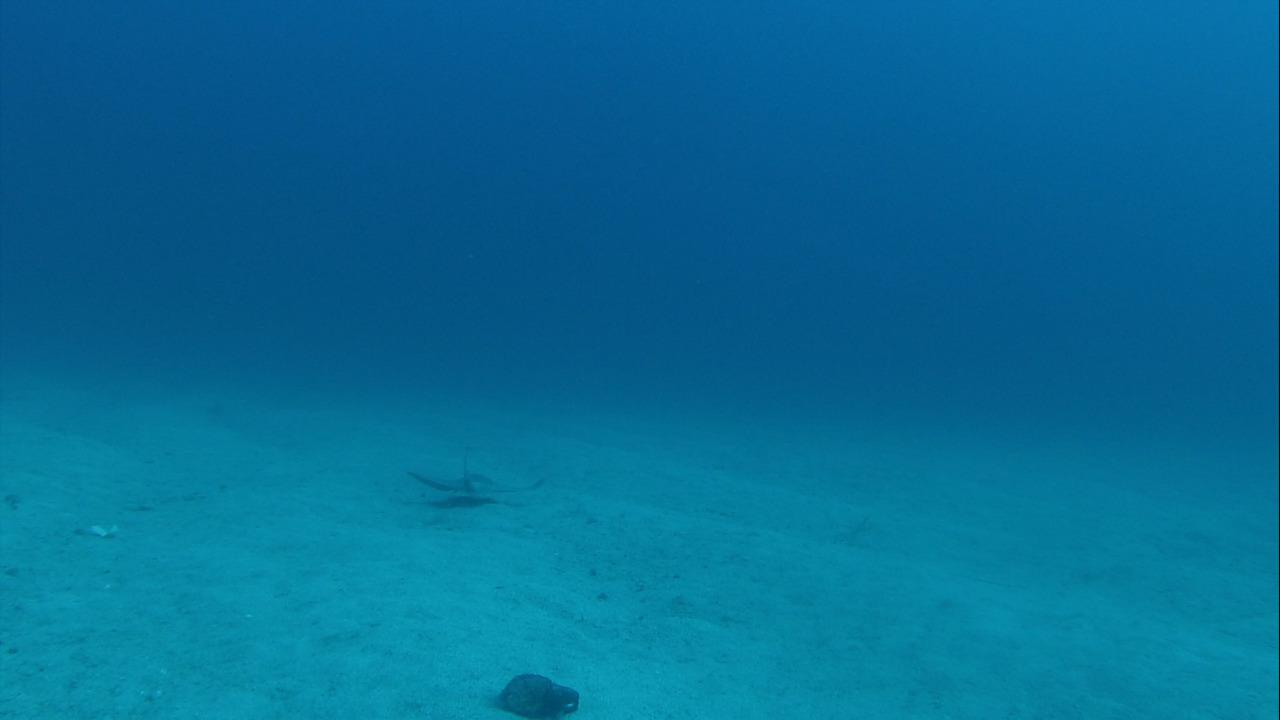myliobatis: (401, 443, 553, 504)
